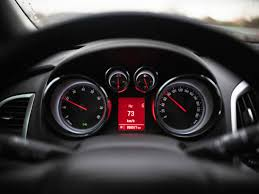Digital_Meter: (118, 98, 143, 132)
